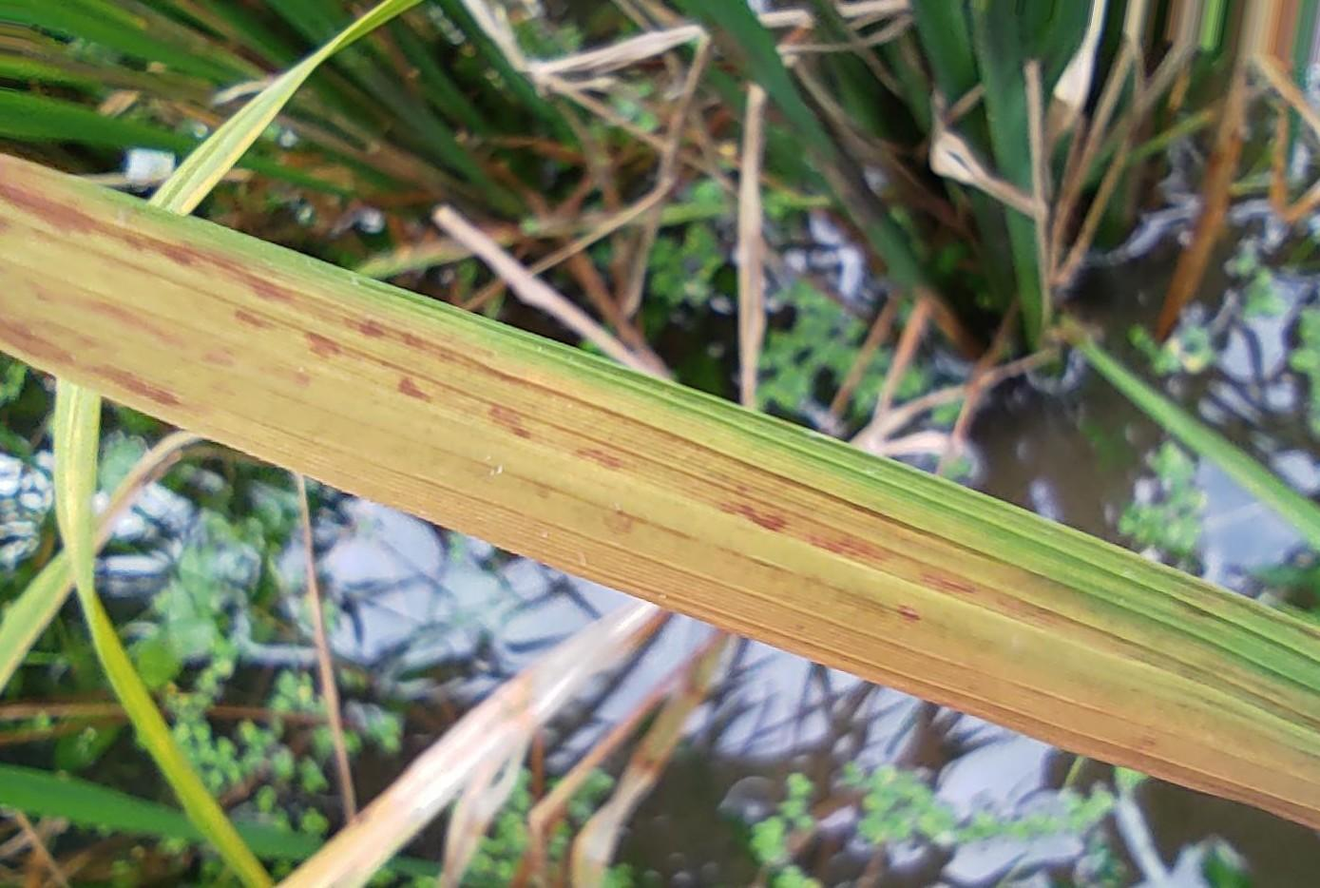LEAF: (0, 156, 1319, 826)
NBS: (88, 365, 184, 404), (1, 189, 92, 230), (0, 322, 79, 364), (75, 303, 169, 337), (147, 241, 194, 266), (245, 276, 293, 298), (736, 507, 779, 529)
